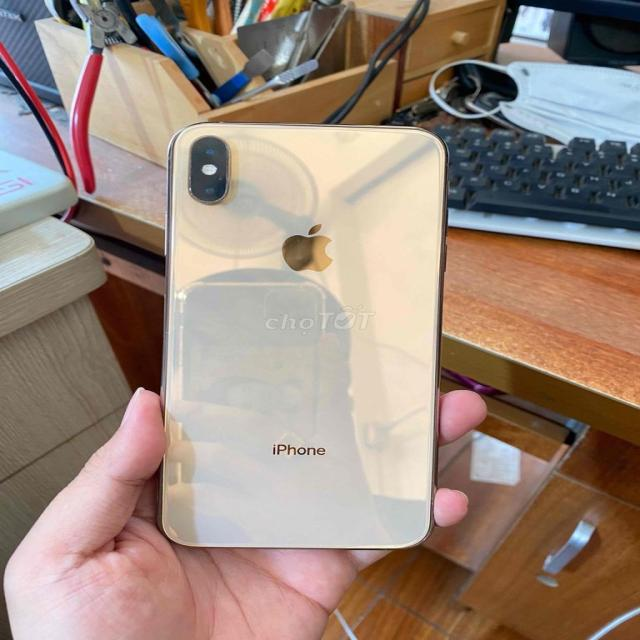gen_x_xs: (146, 116, 449, 557)
